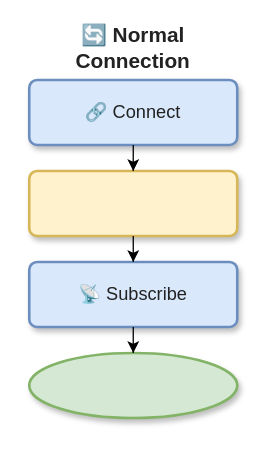
The diagram is 268 pixels wide and 450 high, and some of its shapes have lost their labels. The shapes that lost their labels are listed below. From the top down, each one's centre as x and y in pixels, then its label:
At [134,205]: "🔐 Authenticate".
At [134,387]: "✅ Syncing".
